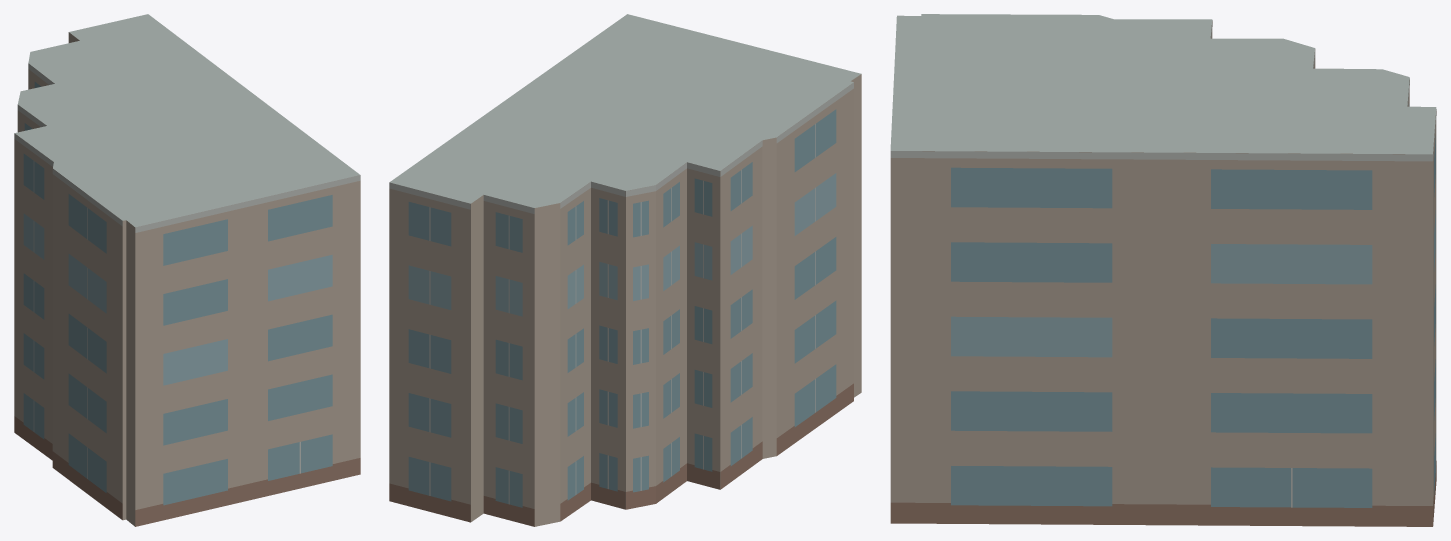
The model's file is survey-upis-32936368.glb.
3 views of the same model, side by side, from view 1: azimuth 30°, elevation 25°; view 2: azimuth 150°, elevation 25°; view 3: azimuth 270°, elevation 25° (orthographic). The views are drawn at different scales.
Visible parts, largest first — view 1: survey-upis-32936368.tmp; view 2: survey-upis-32936368.tmp; view 3: survey-upis-32936368.tmp.
Boxes of the visible parts, left/top/right/bottom form: survey-upis-32936368.tmp: left=14, top=14, right=360, bottom=526; survey-upis-32936368.tmp: left=389, top=14, right=861, bottom=526; survey-upis-32936368.tmp: left=890, top=14, right=1436, bottom=526.
Size of the model in its own units: 10.35 by 12.8 by 17.01.
